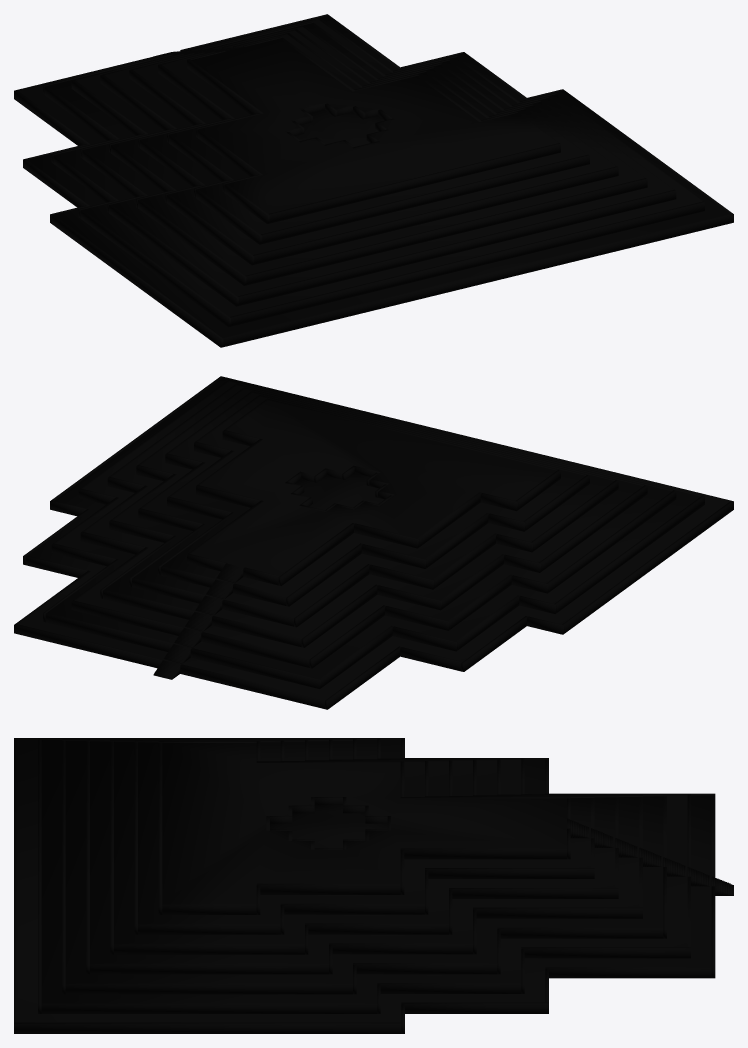
The model's file is piramide2.glb.glb.
3 renders of one model, top to bottom at view 1: azimuth 30°, elevation 25°; view 2: azimuth 150°, elevation 25°; view 3: azimuth 270°, elevation 25°, orthographic. The views are drawn at different scales.
Parts seen in each view (by area): view 1: tripo_node_16cb247f-d84a-44b1-89c2-81f227c4f76f; view 2: tripo_node_16cb247f-d84a-44b1-89c2-81f227c4f76f; view 3: tripo_node_16cb247f-d84a-44b1-89c2-81f227c4f76f.
Boxes of the visible parts, x1,y1,x2,y2 form: tripo_node_16cb247f-d84a-44b1-89c2-81f227c4f76f: [14, 14, 733, 347]; tripo_node_16cb247f-d84a-44b1-89c2-81f227c4f76f: [14, 376, 733, 709]; tripo_node_16cb247f-d84a-44b1-89c2-81f227c4f76f: [14, 738, 733, 1033].
Size of the model in its own units: 0.9409 by 0.1034 by 1.
Materials: 1 (1 with a texture image).
